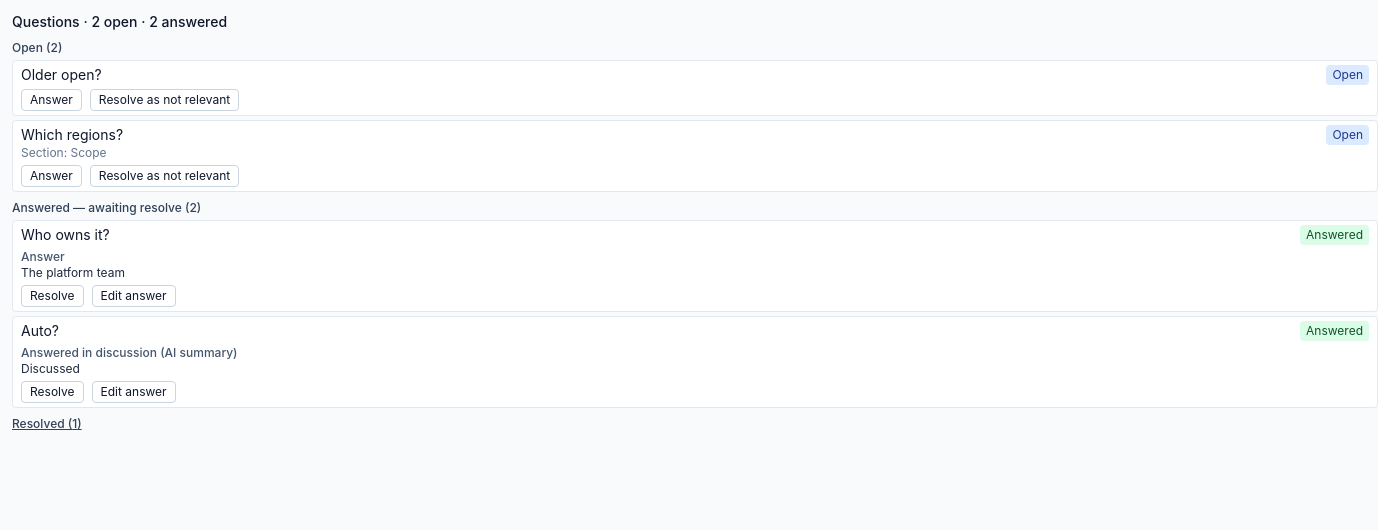
Scenario: QuestionsList › shows the AI unavailable banner when the stream errors after the answer is saved
This screenshot has width=1378, height=530.
Step 1. Click the button "Answer" below "Which regions?" → (51, 176), box [21,165,82,187]
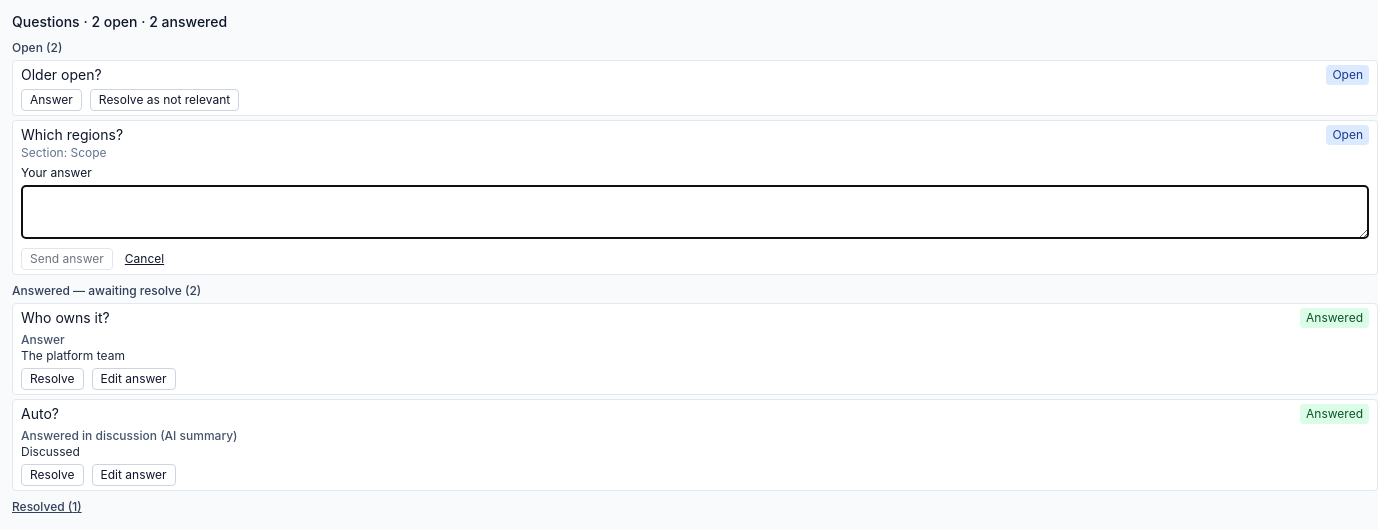
Step 2. Type "EU only" into the text box labelled "Your answer" → (695, 212), box [21,185,1369,239]
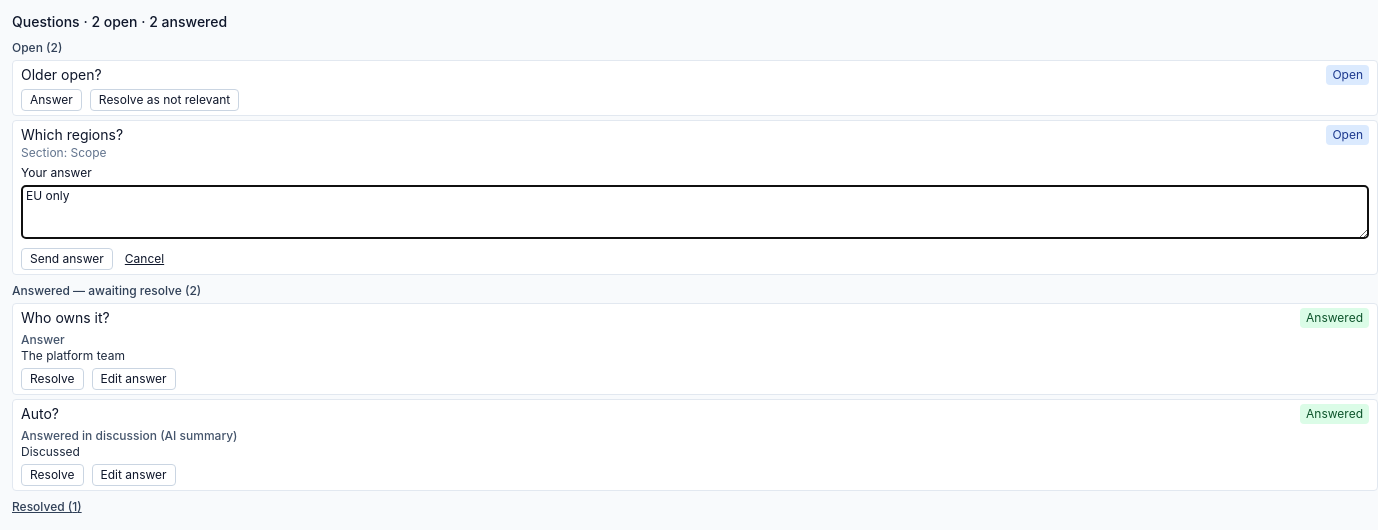
Step 3. Click the button "Send answer" → (67, 259), box [21,248,113,270]
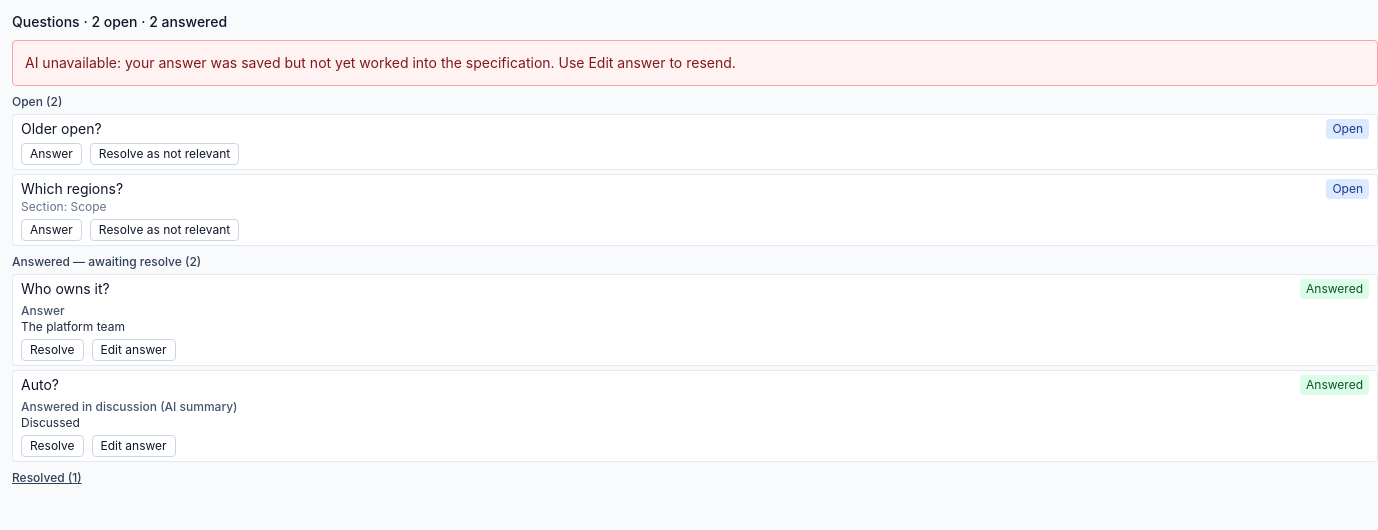
Now the message shows "AI unavailable: your answer was saved but not yet worked into the specification. Use Edit answer to resend.", box [25,54,736,71]
